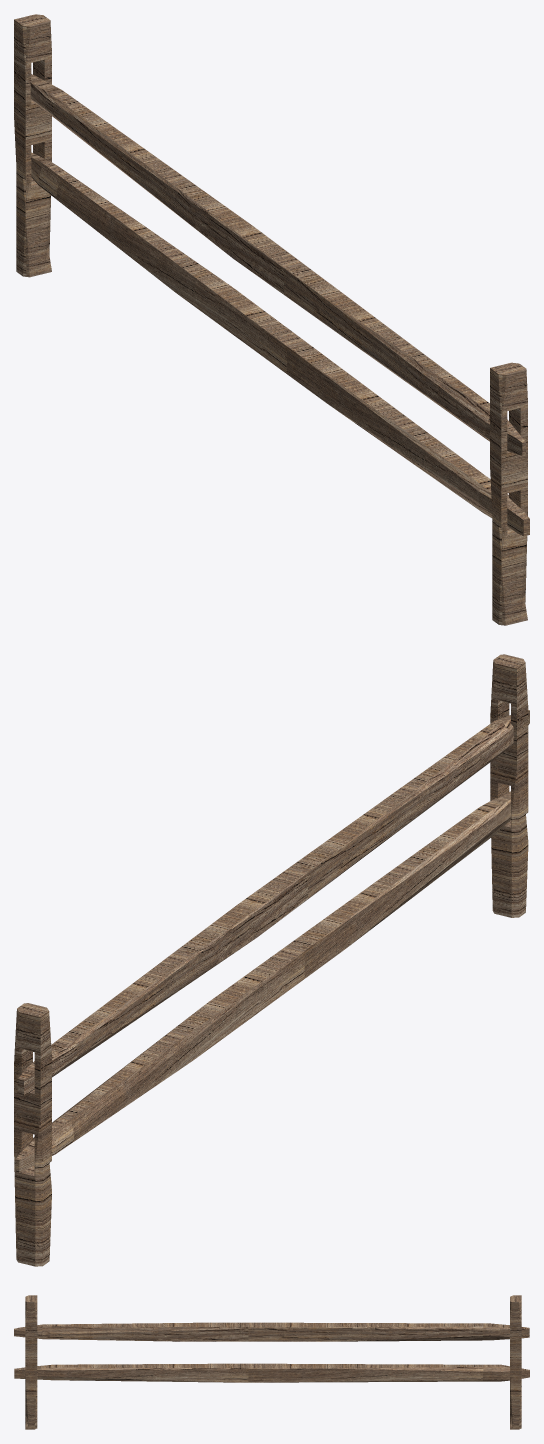
Rendered from fence.obj.
3 renders of one model, top to bottom at view 1: azimuth 30°, elevation 25°; view 2: azimuth 150°, elevation 25°; view 3: azimuth 270°, elevation 25°, orthographic. The views are drawn at different scales.
Parts seen in each view (by area): view 1: Layer0_001, Split_Rail_Rail_11_Ft_001, Split_Rail_Line_Fence_Post_003, Split_Rail_Line_Fence_Post_001; view 2: Layer0_001, Split_Rail_Rail_11_Ft_001, Split_Rail_Line_Fence_Post_001, Split_Rail_Line_Fence_Post_003; view 3: Split_Rail_Rail_11_Ft_001, Layer0_001, Split_Rail_Line_Fence_Post_003, Split_Rail_Line_Fence_Post_001.
Part boxes in pixels (x1,y1,x2,y2): Layer0_001: (31, 152, 529, 536); Split_Rail_Rail_11_Ft_001: (30, 74, 525, 455); Split_Rail_Line_Fence_Post_003: (490, 362, 527, 625); Split_Rail_Line_Fence_Post_001: (14, 14, 51, 277); Layer0_001: (16, 791, 510, 1172); Split_Rail_Rail_11_Ft_001: (17, 710, 529, 1096); Split_Rail_Line_Fence_Post_001: (14, 1003, 51, 1266); Split_Rail_Line_Fence_Post_003: (490, 654, 528, 917); Split_Rail_Rail_11_Ft_001: (14, 1322, 529, 1341); Layer0_001: (14, 1363, 529, 1382); Split_Rail_Line_Fence_Post_003: (25, 1295, 37, 1429); Split_Rail_Line_Fence_Post_001: (510, 1295, 521, 1429).
Size of the model in its own units: 102 by 914 by 3354.
3 materials, 3 textured.
